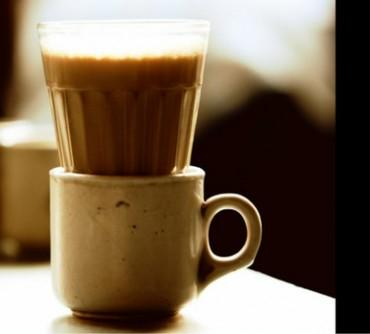Chai: (41, 50, 205, 174)
